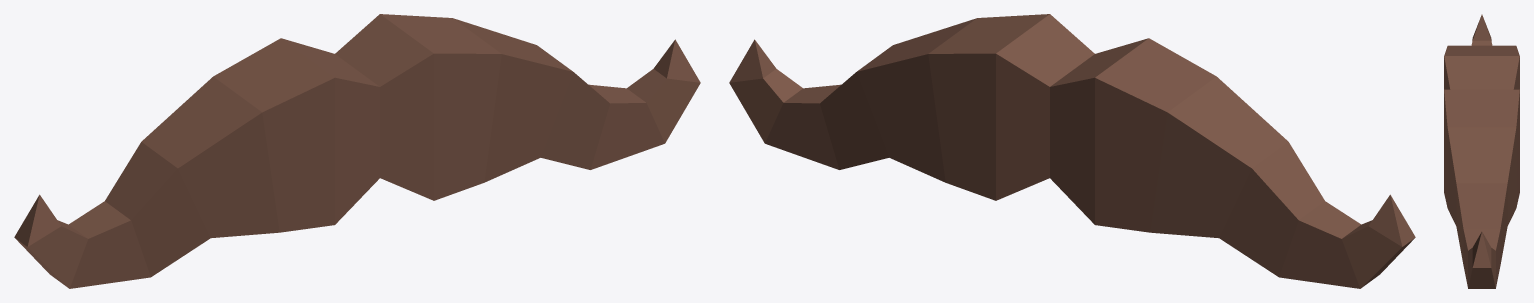
The model's file is mustache_classic.glb.
The picture shows the model from 3 angles, left to right: view 1: azimuth 30°, elevation 25°; view 2: azimuth 150°, elevation 25°; view 3: azimuth 270°, elevation 25°; orthographic projection. The views are drawn at different scales.
Parts seen in each view (by area): view 1: Mustache_01_Cube.026; view 2: Mustache_01_Cube.026; view 3: Mustache_01_Cube.026.
Part boxes in pixels (x1,y1,x2,y2): Mustache_01_Cube.026: (14,14,700,288); Mustache_01_Cube.026: (729,14,1415,288); Mustache_01_Cube.026: (1444,14,1519,288).
Bounding box in the file's own units: 42.89 × 10.25 × 5.97.
